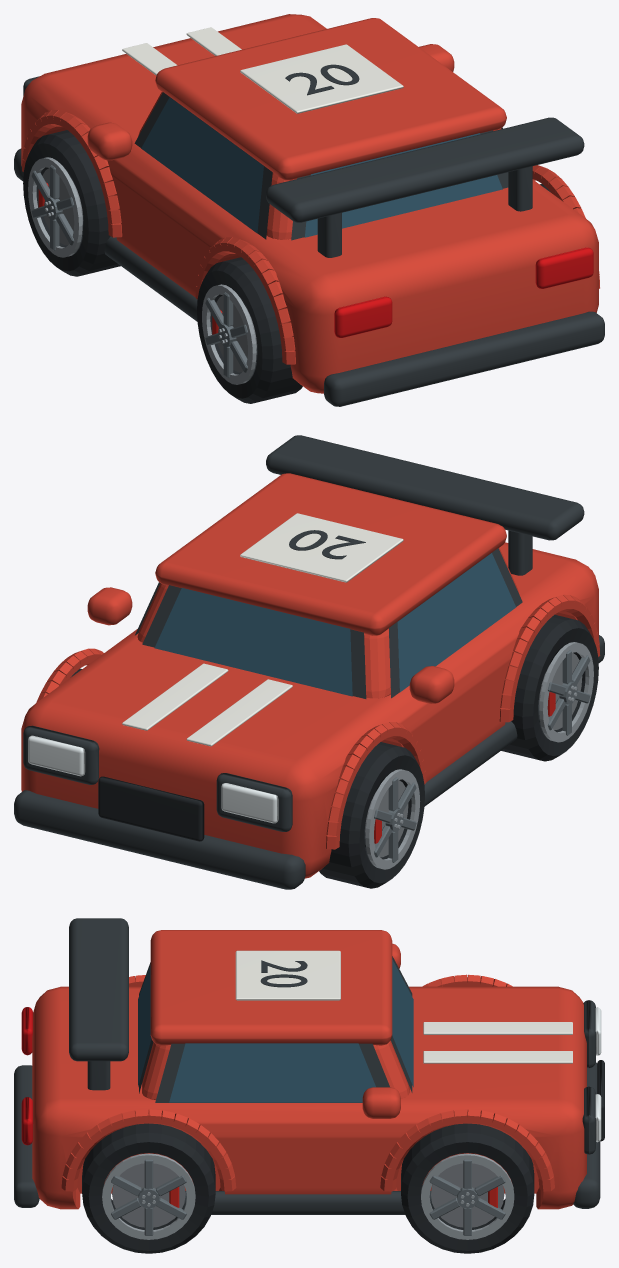
Rendered from car_speed.glb.
3 renders of one model, top to bottom at view 1: azimuth 30°, elevation 25°; view 2: azimuth 150°, elevation 25°; view 3: azimuth 270°, elevation 25°, orthographic. The views are drawn at different scales.
Parts seen in each view (by area): view 1: Body, WheelMesh.002, WheelMesh; view 2: Body, WheelMesh, WheelMesh.002; view 3: Body, WheelMesh.003, WheelMesh.001.
Part boxes in pixels (x1,y1,x2,y2): Body: [14, 14, 604, 406]; WheelMesh.002: [197, 257, 302, 403]; WheelMesh: [23, 130, 120, 276]; Body: [14, 435, 604, 889]; WheelMesh: [319, 742, 424, 888]; WheelMesh.002: [501, 614, 598, 761]; Body: [14, 918, 604, 1214]; WheelMesh.003: [82, 1123, 215, 1253]; WheelMesh.001: [401, 1123, 534, 1253].
Size of the model in its own units: 2.64 by 1.62 by 4.16.
